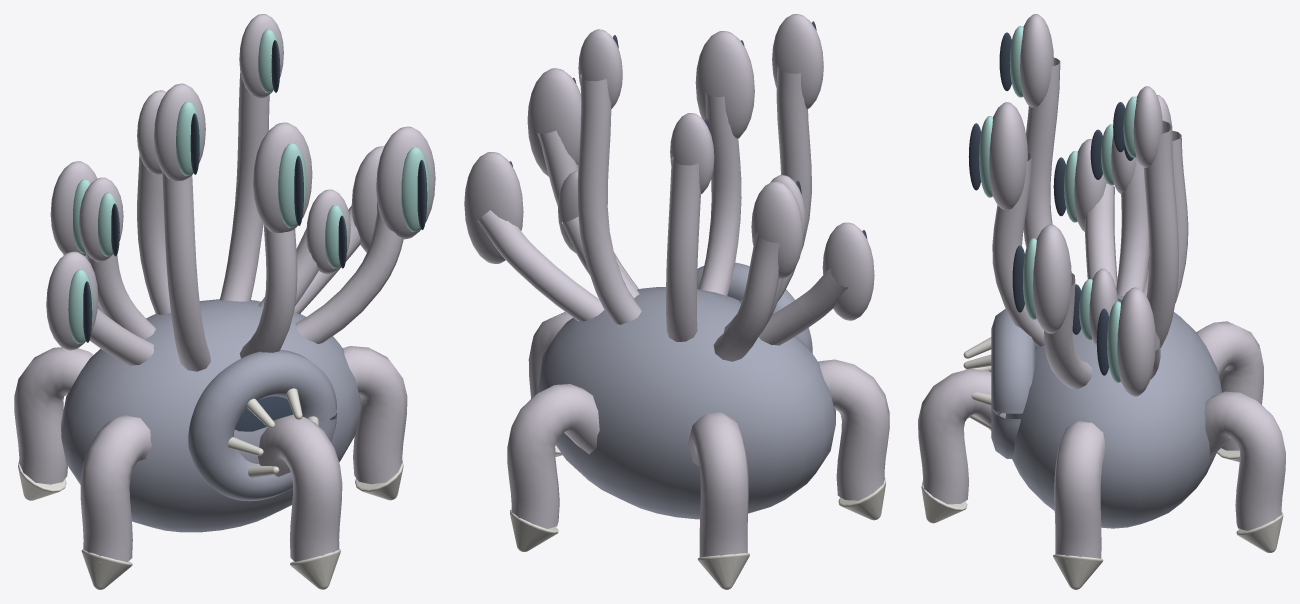
The model's file is bio_eye_orchard_06_near.glb.
3 views of the same model, side by side, from view 1: azimuth 30°, elevation 25°; view 2: azimuth 150°, elevation 25°; view 3: azimuth 270°, elevation 25° (orthographic). The views are drawn at different scales.
Parts seen in each view (by area): view 1: Rooted muscular caudex, Raised oral lip, Asymmetric ocular branch.007, Asymmetric ocular branch.005, Crooked support.003, Asymmetric ocular branch.003, Asymmetric ocular branch.002, Crooked support.002, Crooked support.001, Crooked support.004, Asymmetric ocular branch.006, Asymmetric ocular branch.004 (+20 smaller); view 2: Rooted muscular caudex, Asymmetric ocular branch.003, Asymmetric ocular branch.002, Asymmetric ocular branch.008, Crooked support, Asymmetric ocular branch.006, Asymmetric ocular branch.001, Crooked support.001, Asymmetric ocular branch.007, Crooked support.002, Asymmetric ocular branch.004, Asymmetric ocular branch.005 (+7 smaller); view 3: Rooted muscular caudex, Asymmetric ocular branch.003, Crooked support, Asymmetric ocular branch.002, Crooked support.003, Asymmetric ocular branch.007, Crooked support.004, Asymmetric ocular branch.005, Raised oral lip, Asymmetric ocular branch.009, Asymmetric ocular branch.004, Crooked support.001 (+22 smaller).
Part boxes in pixels (x1,y1,x2,y2): Rooted muscular caudex: (61,299,360,532); Raised oral lip: (188,350,336,501); Asymmetric ocular branch.007: (154,83,210,371); Asymmetric ocular branch.005: (295,126,435,343); Crooked support.003: (258,414,342,562); Asymmetric ocular branch.003: (220,14,283,301); Asymmetric ocular branch.002: (239,122,312,358); Crooked support.002: (80,415,151,562); Crooked support.001: (14,347,93,484); Crooked support.004: (343,346,407,484); Asymmetric ocular branch.006: (137,90,170,314); Asymmetric ocular branch.004: (46,251,154,365); Rooted muscular caudex: (537,287,835,519); Asymmetric ocular branch.003: (577,29,641,324); Asymmetric ocular branch.002: (695,31,754,295); Asymmetric ocular branch.008: (464,152,604,321); Crooked support: (507,384,599,528); Asymmetric ocular branch.006: (666,113,714,341); Asymmetric ocular branch.001: (713,181,803,361); Crooked support.001: (688,412,748,562); Asymmetric ocular branch.007: (739,14,823,303); Crooked support.002: (818,359,889,500); Asymmetric ocular branch.004: (758,222,874,345); Asymmetric ocular branch.005: (527,68,638,289); Rooted muscular caudex: (1005,295,1221,528); Asymmetric ocular branch.003: (1133,86,1178,347); Crooked support: (1204,391,1285,530); Asymmetric ocular branch.002: (989,102,1044,346); Crooked support.003: (918,369,1005,504); Asymmetric ocular branch.007: (1020,14,1060,247); Crooked support.004: (1054,421,1105,563); Asymmetric ocular branch.005: (1033,224,1092,388); Raised oral lip: (991,308,1035,458); Asymmetric ocular branch.009: (1111,135,1149,295); Asymmetric ocular branch.004: (1074,139,1117,287); Crooked support.001: (1196,321,1263,450).
Size of the model in its own units: 1.71 by 2.07 by 1.48.
